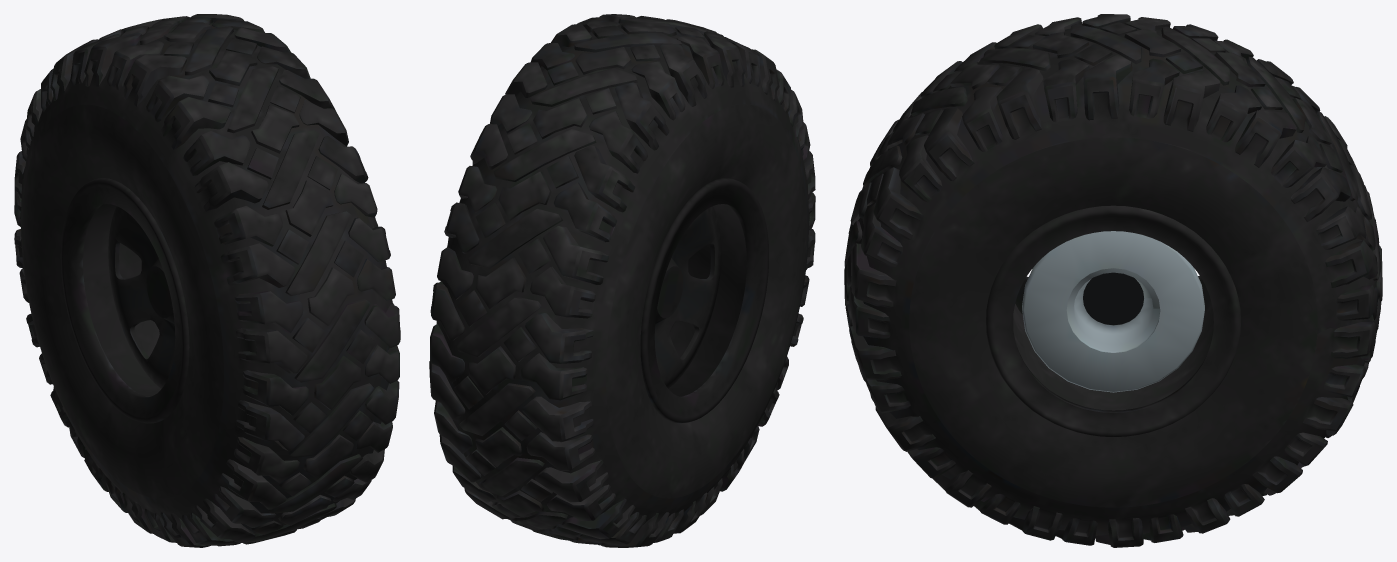
File: Wheel.obj
3 renders of one model, left to right at view 1: azimuth 30°, elevation 25°; view 2: azimuth 150°, elevation 25°; view 3: azimuth 270°, elevation 25°, orthographic.
Visible parts, largest first — view 1: SM_Offroad_Tire; view 2: SM_Offroad_Tire; view 3: SM_Offroad_Tire.
Part boxes in pixels (<box>): SM_Offroad_Tire: <box>14,14,400,547</box>; SM_Offroad_Tire: <box>429,14,815,547</box>; SM_Offroad_Tire: <box>844,14,1382,547</box>.
Bounding box in the file's own units: 0.3971 × 1.02 × 1.02.
1 material, 1 textured.
